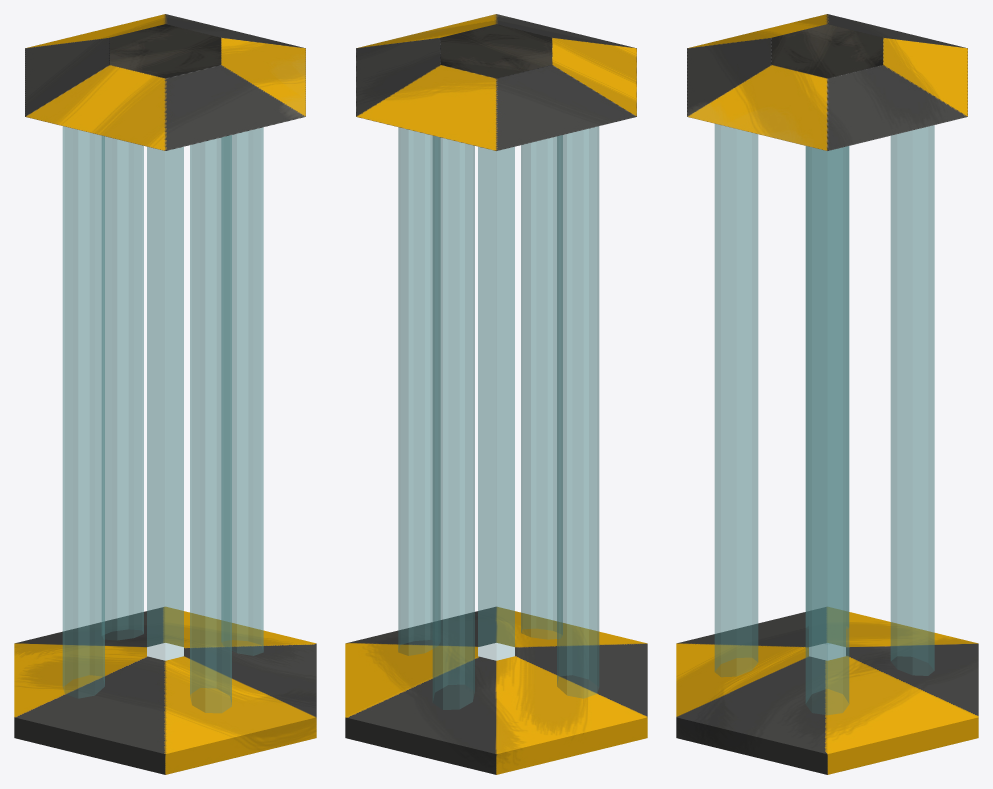
The model's file is lamp_1.fbx.
3 views of the same model, side by side, from view 1: azimuth 30°, elevation 25°; view 2: azimuth 150°, elevation 25°; view 3: azimuth 270°, elevation 25° (orthographic).
Parts seen in each view (by area): view 1: lamp:polySurface7; view 2: lamp:polySurface7; view 3: lamp:polySurface7.
Boxes of the visible parts, left/top/right/bottom form: lamp:polySurface7: left=14, top=14, right=316, bottom=774; lamp:polySurface7: left=345, top=14, right=647, bottom=774; lamp:polySurface7: left=676, top=14, right=978, bottom=774.
Bounding box in the file's own units: 2 × 4.1 × 1.73.
2 materials, 1 textured.
